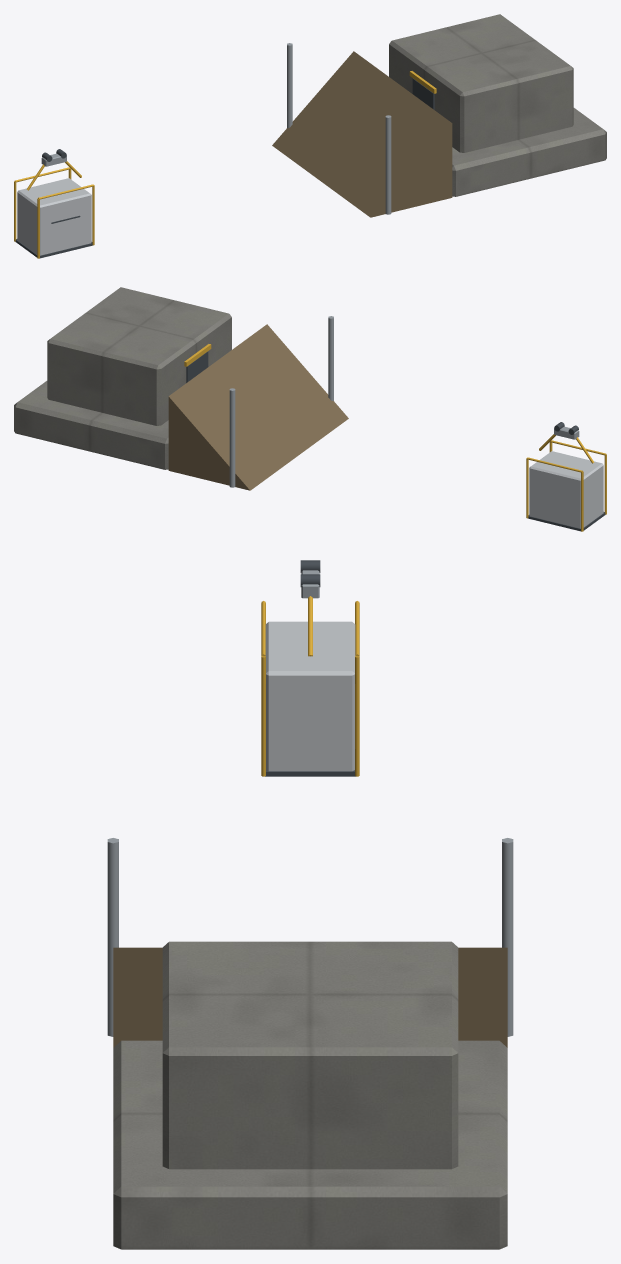
File: egress.glb
3 views of the same model, one above another, from view 1: azimuth 30°, elevation 25°; view 2: azimuth 150°, elevation 25°; view 3: azimuth 270°, elevation 25° (orthographic). The views are drawn at different scales.
Visible parts, largest first — view 1: bunker, basket; view 2: bunker, basket; view 3: bunker, basket.
Part boxes in pixels (x1,y1,x2,y2): bunker: (272, 14, 606, 217); basket: (14, 149, 94, 258); bunker: (14, 287, 348, 490); basket: (526, 422, 606, 531); bunker: (107, 838, 513, 1249); basket: (261, 560, 359, 776).
Size of the model in its own units: 15 by 2.6 by 4.94.
6 materials, 1 textured.
